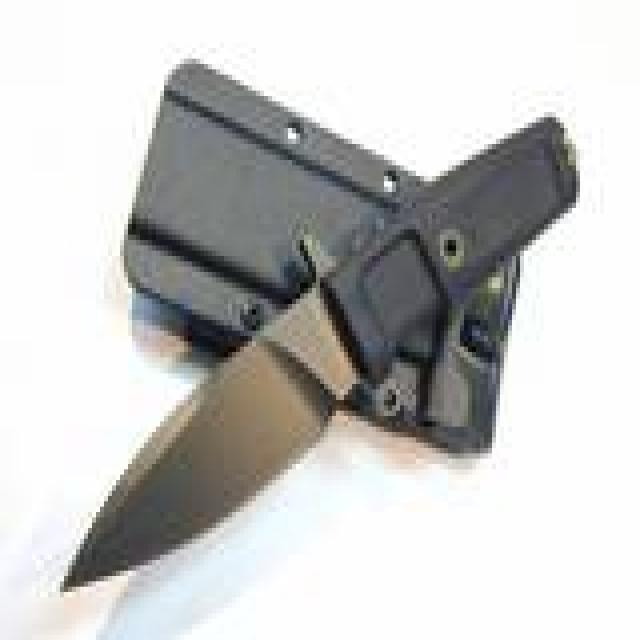Knife: (36, 113, 584, 620)
